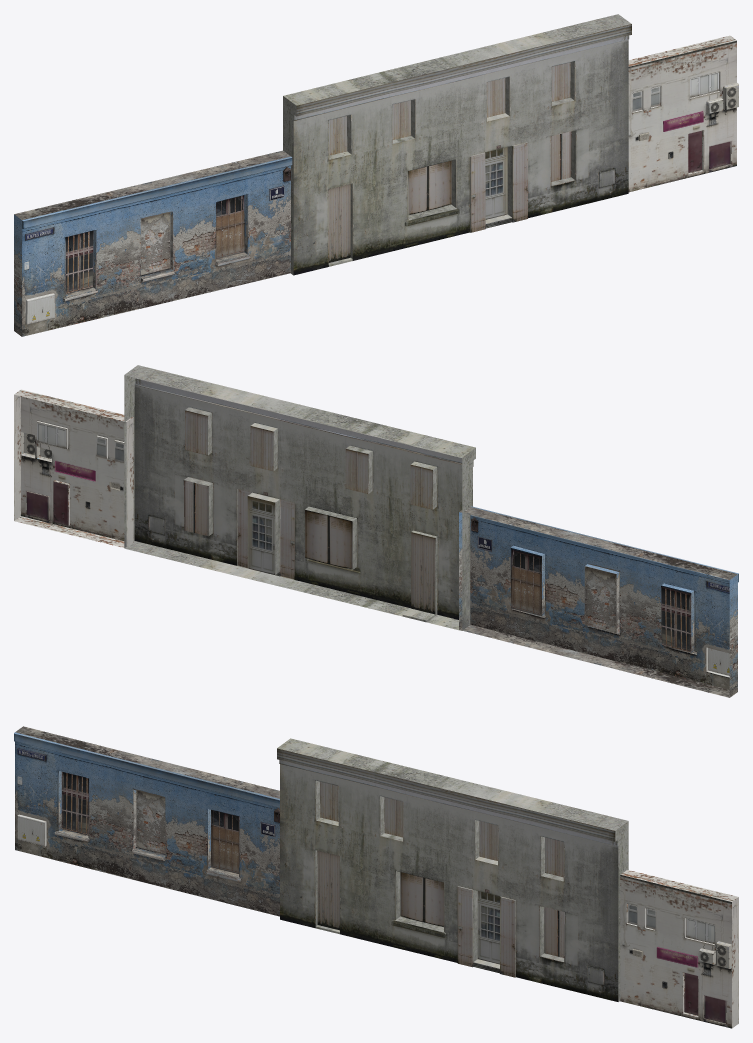
File: straight1.obj
The picture shows the model from 3 angles, top to bottom: view 1: azimuth 30°, elevation 25°; view 2: azimuth 150°, elevation 25°; view 3: azimuth 330°, elevation 25°; orthographic projection.
Visible parts, largest first — view 1: Old_Building_#1, Old_Building_#4, Old_Building_#5; view 2: Old_Building_#1, Old_Building_#4, Old_Building_#5; view 3: Old_Building_#1, Old_Building_#4, Old_Building_#5.
Boxes of the visible parts, x1,y1,x2,y2 form: Old_Building_#1: [283, 14, 631, 275]; Old_Building_#4: [14, 150, 292, 336]; Old_Building_#5: [628, 35, 738, 192]; Old_Building_#1: [124, 365, 475, 630]; Old_Building_#4: [459, 506, 738, 697]; Old_Building_#5: [14, 389, 133, 547]; Old_Building_#1: [277, 738, 628, 1001]; Old_Building_#4: [14, 726, 279, 916]; Old_Building_#5: [620, 870, 738, 1028].
Size of the model in its own units: 12.78 by 2.96 by 0.4863.
3 materials, 3 textured.
